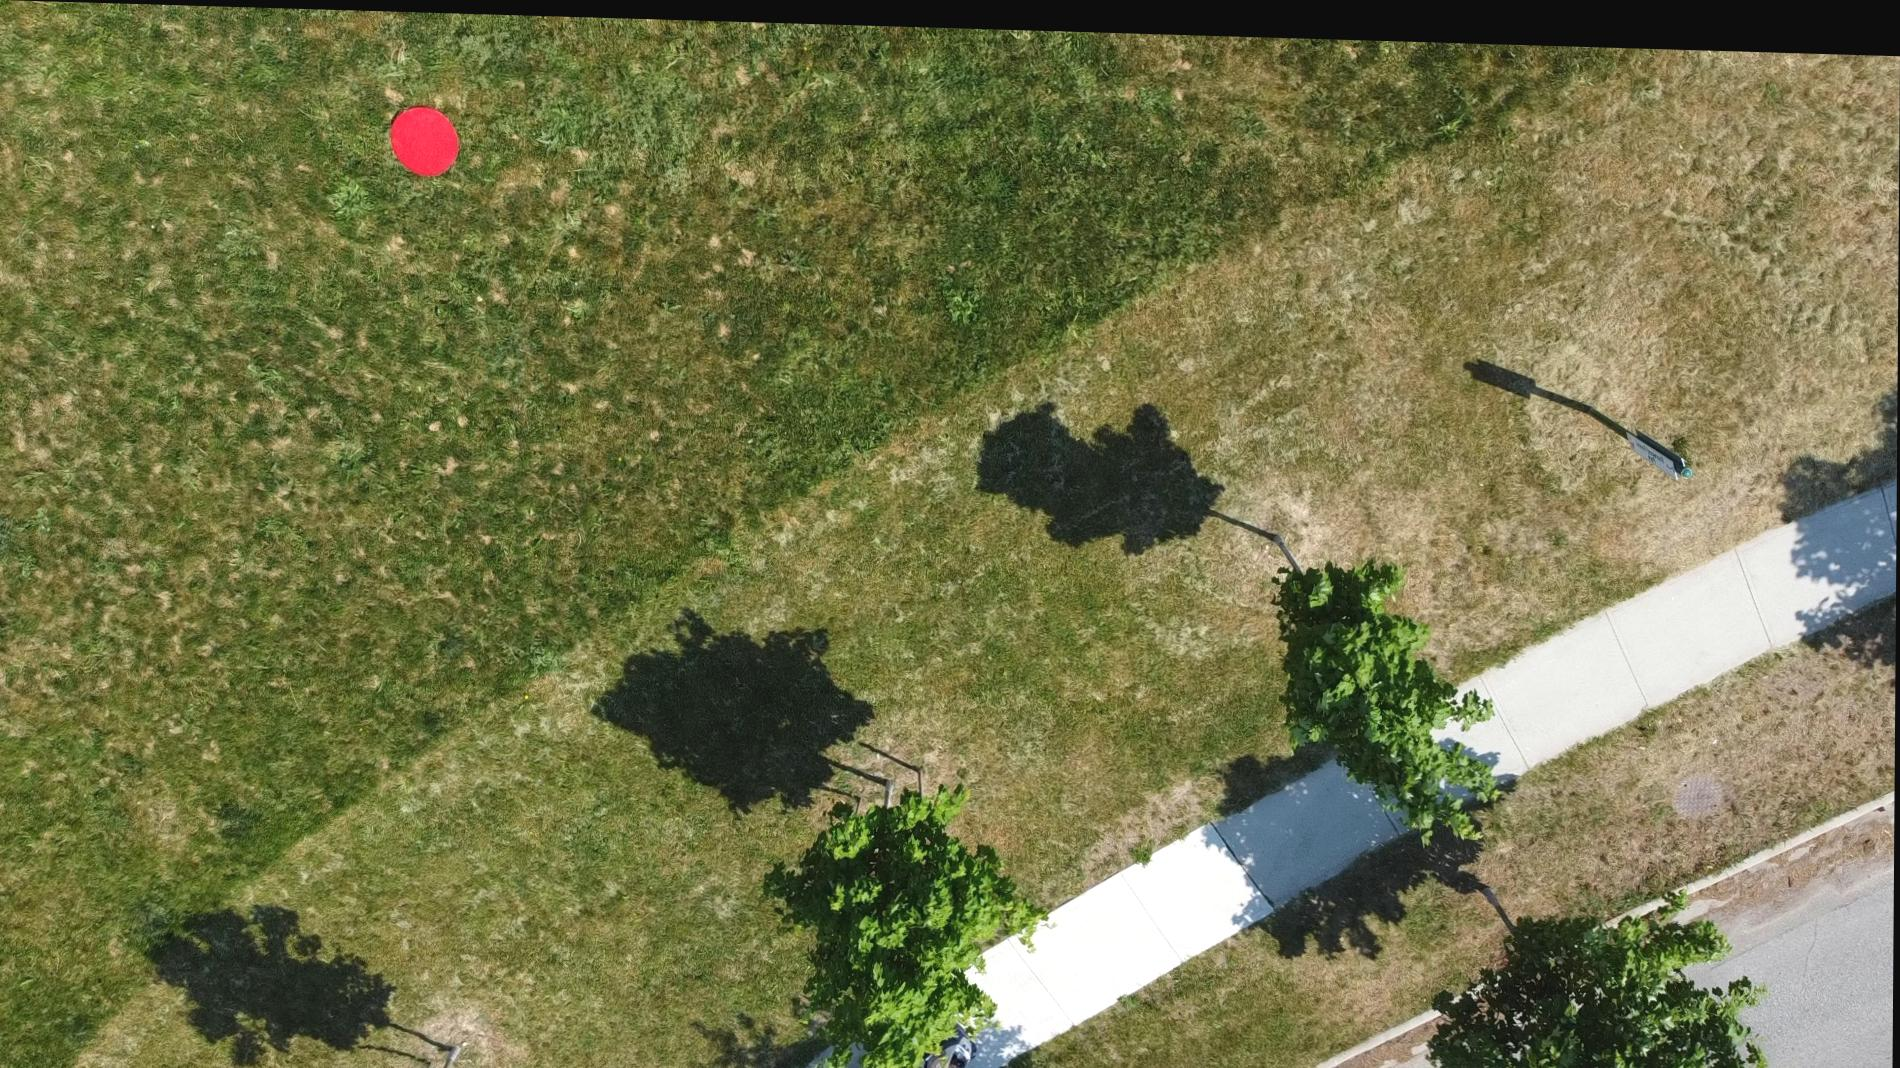Red: (389, 101, 463, 178)
